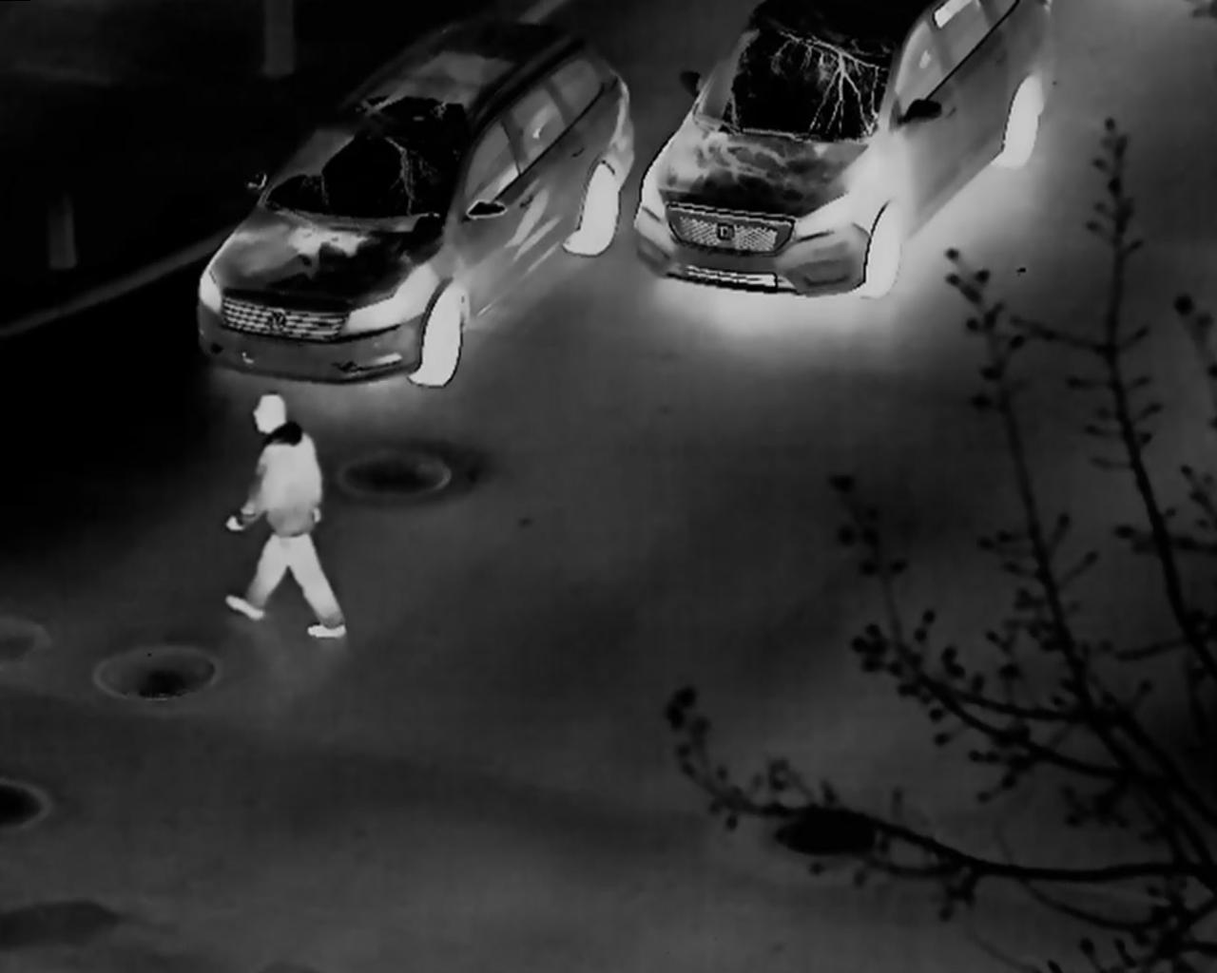person: (225, 392, 347, 642)
